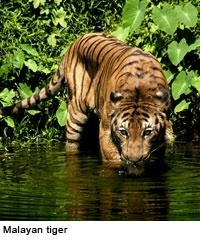tigre: (13, 31, 168, 170)
